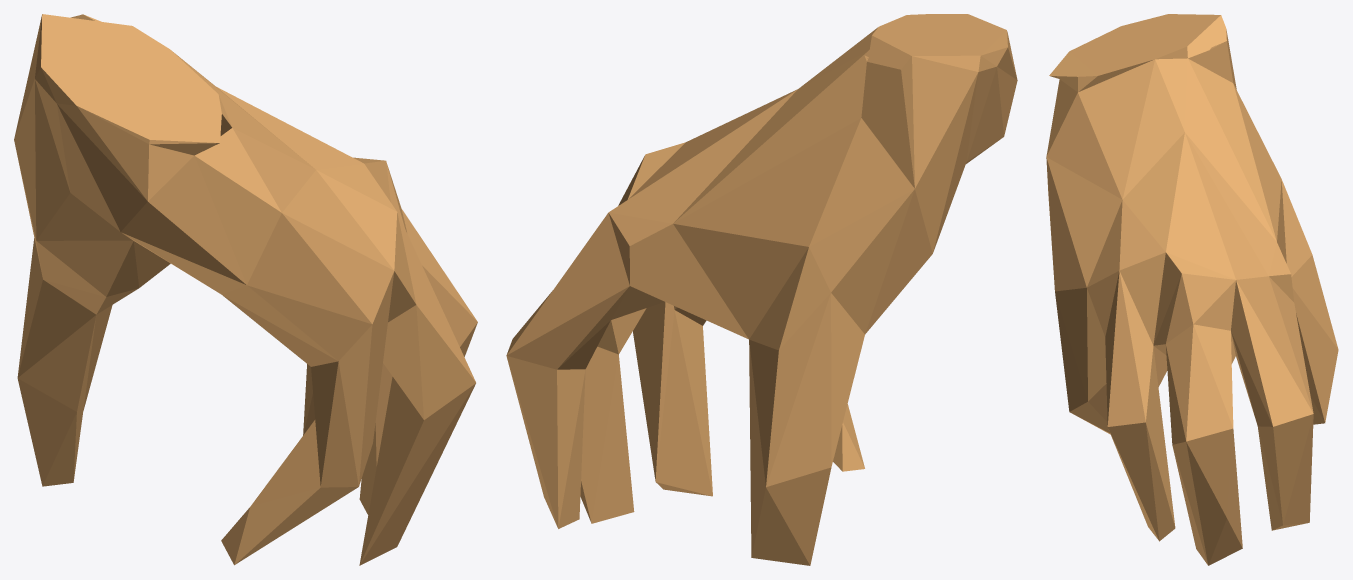
Rendered from Mano.fbx.
3 views of the same model, side by side, from view 1: azimuth 30°, elevation 25°; view 2: azimuth 150°, elevation 25°; view 3: azimuth 270°, elevation 25° (orthographic). The views are drawn at different scales.
Parts seen in each view (by area): view 1: Mano; view 2: Mano; view 3: Mano.
Boxes of the visible parts, box(x1,y1,x2,y2) form: Mano: box(14, 14, 477, 565); Mano: box(506, 14, 1017, 565); Mano: box(1046, 14, 1338, 565).
Bounding box in the file's own units: 5743 × 7227 × 4465.
